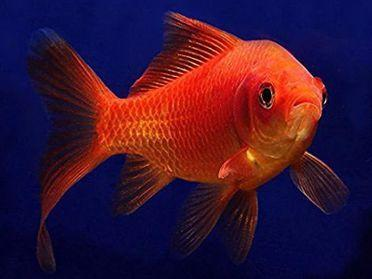Gold Fish: (25, 9, 351, 266)
